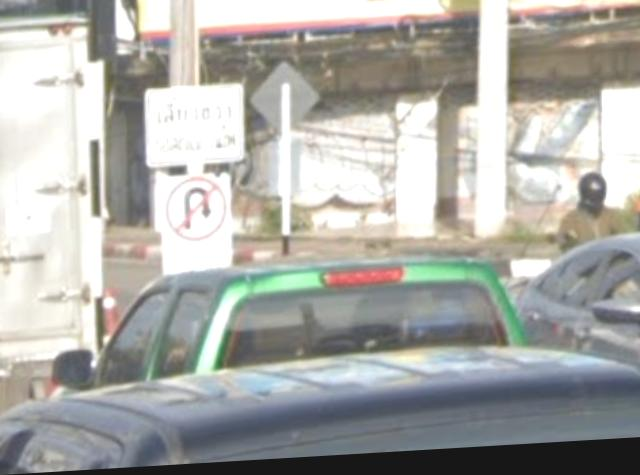not_u_turn_right: (166, 178, 232, 252)
